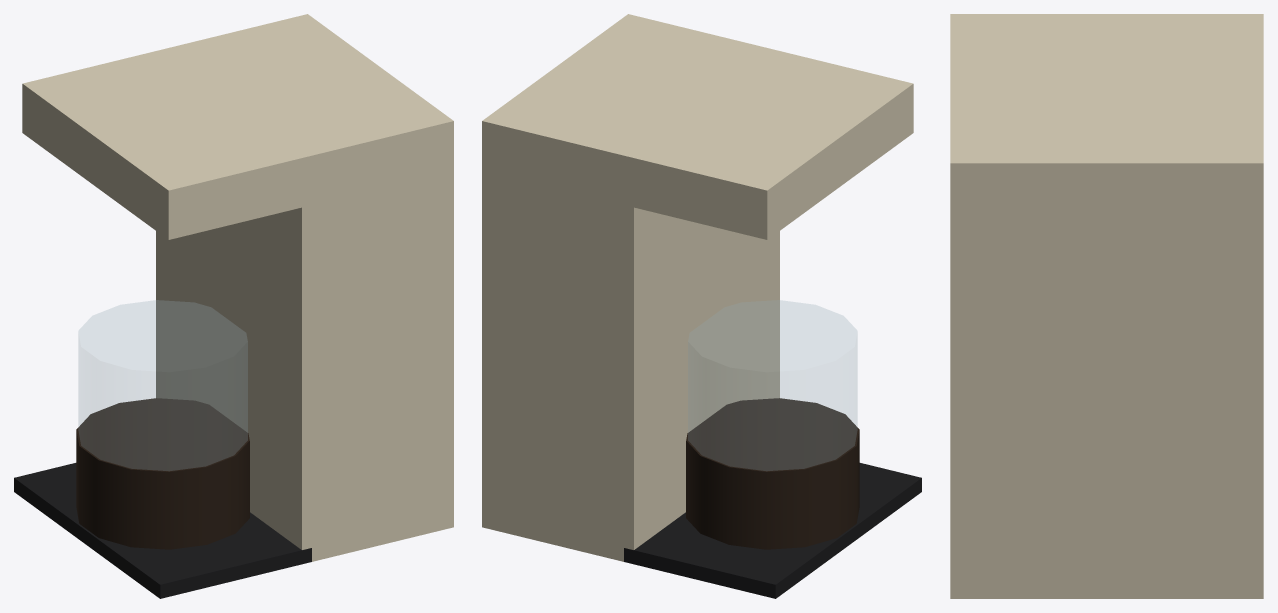
The model's file is pots-half-full-and.glb.
The picture shows the model from 3 angles, left to right: view 1: azimuth 30°, elevation 25°; view 2: azimuth 150°, elevation 25°; view 3: azimuth 270°, elevation 25°; orthographic projection. The views are drawn at different scales.
Size of the model in its own units: 0.87 by 1.15 by 0.75.
